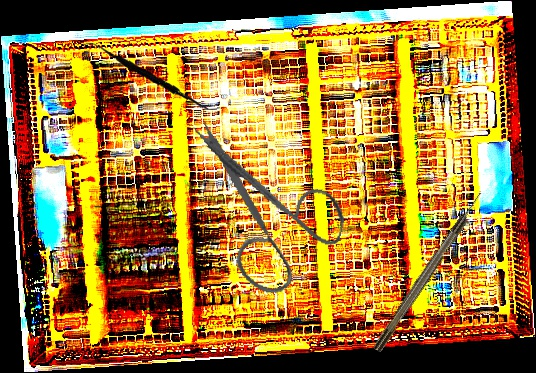Hook Surgical: (371, 190, 486, 353)
Iris Scissors: (160, 116, 360, 307)
Spatula Surgical: (82, 33, 221, 119)
